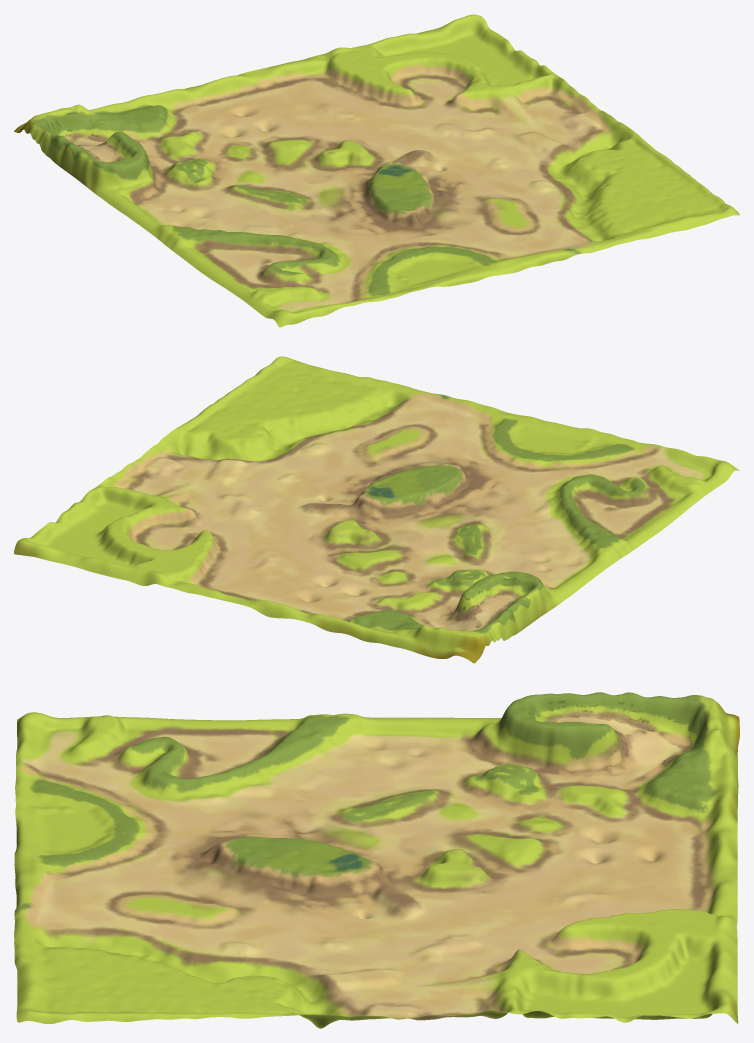
Rendered from hugeMaptex.glb.
3 renders of one model, top to bottom at view 1: azimuth 30°, elevation 25°; view 2: azimuth 150°, elevation 25°; view 3: azimuth 270°, elevation 25°, orthographic. The views are drawn at different scales.
Parts seen in each view (by area): view 1: Plane; view 2: Plane; view 3: Plane.
Boxes of the visible parts, x1,y1,x2,y2 form: Plane: (14,14,739,327); Plane: (14,356,739,663); Plane: (14,692,739,1028).
Size of the model in its own units: 205 by 14.93 by 206.
Materials: 1 (1 with a texture image).
